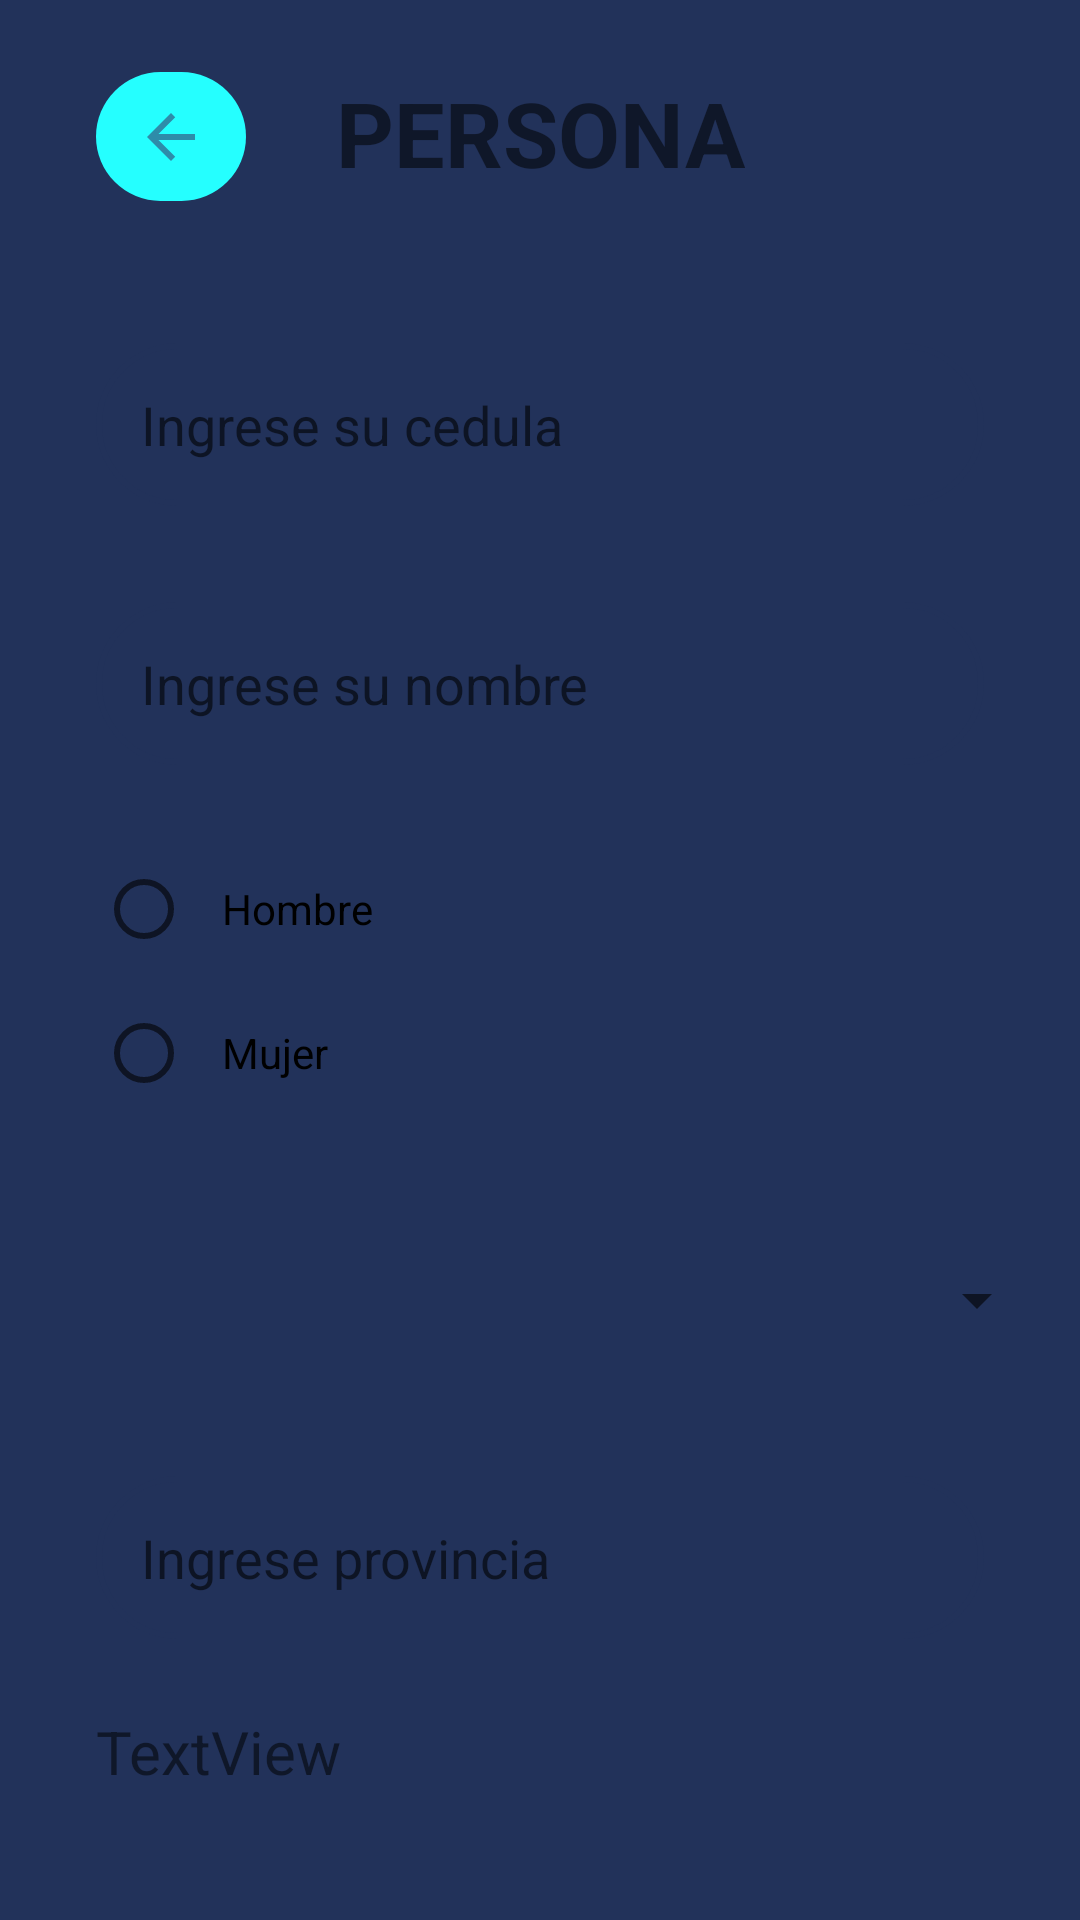

Icon click points for this 1080px x 1920px phone screenshot, format (x,y):
volver: (171,136)
